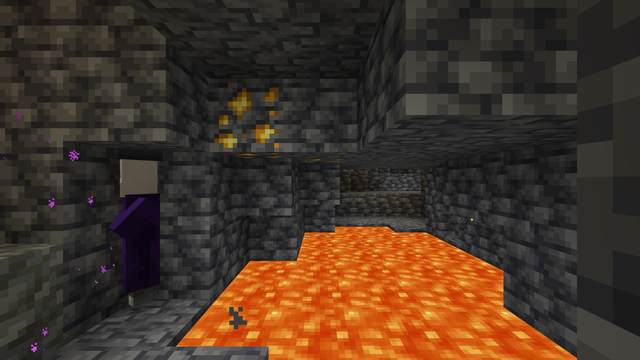sorcieres: (116, 153, 160, 309)
